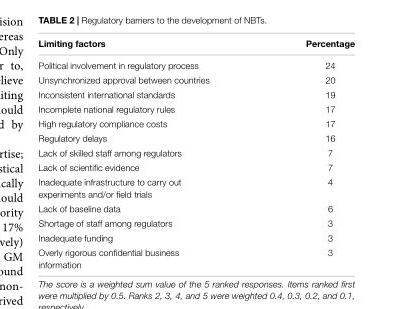table: (37, 37, 354, 269)
table column: (37, 37, 256, 269), (256, 37, 354, 269)
table column header: (37, 37, 354, 53)
table row: (37, 173, 354, 200), (37, 244, 354, 269), (37, 53, 354, 71), (37, 37, 354, 53), (37, 71, 354, 86), (37, 86, 354, 101), (37, 115, 354, 130), (37, 144, 354, 159), (37, 200, 354, 215), (37, 229, 354, 244), (37, 101, 354, 115), (37, 130, 354, 144), (37, 159, 354, 173), (37, 215, 354, 229)
